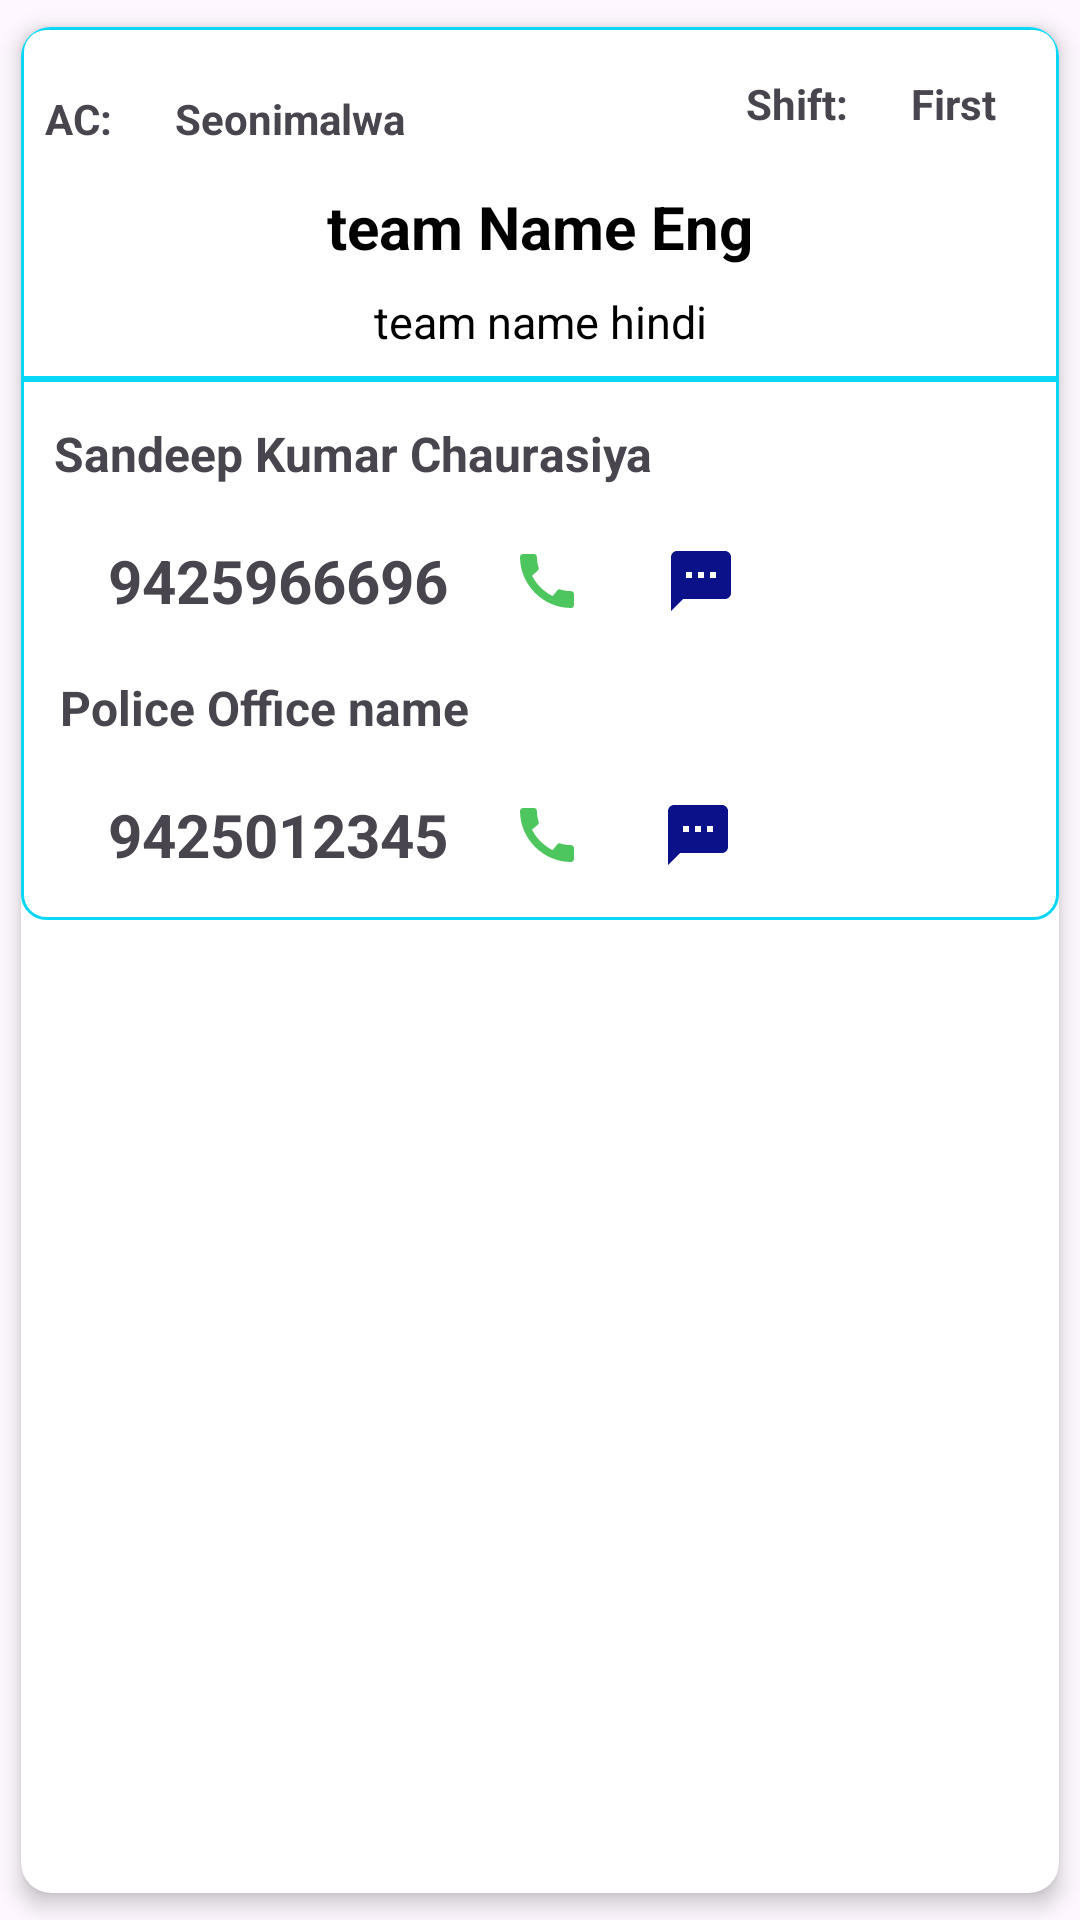

Icons on this 1080px×1920px Android screen, each with its box as (x1, y1, x2, y2):
call: (520, 554, 574, 608), (520, 808, 574, 862)
